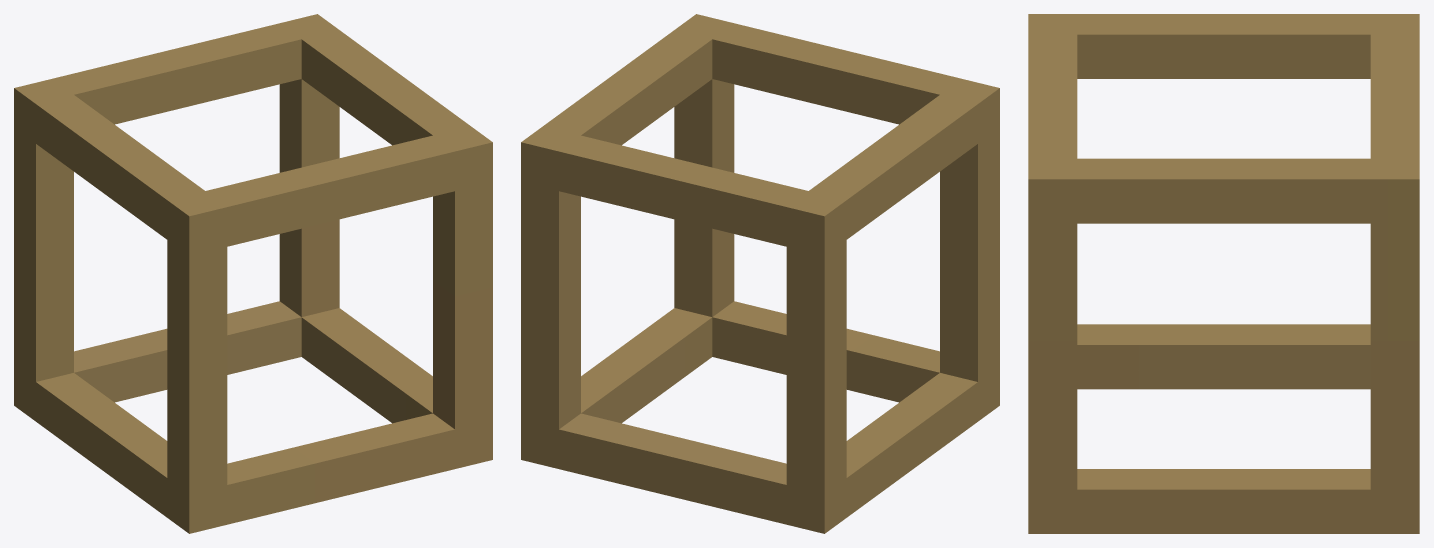
The model's file is Cube-cage.obj.
3 views of the same model, side by side, from view 1: azimuth 30°, elevation 25°; view 2: azimuth 150°, elevation 25°; view 3: azimuth 270°, elevation 25° (orthographic). The views are drawn at different scales.
Visible parts, largest first — view 1: pCube18; view 2: pCube18; view 3: pCube18.
Boxes of the visible parts, x1=… form: pCube18: x1=14, y1=14, x2=492, y2=533; pCube18: x1=521, y1=14, x2=999, y2=533; pCube18: x1=1028, y1=14, x2=1419, y2=533.
Size of the model in its own units: 8 by 8 by 8.
Materials: 1 (1 with a texture image).
